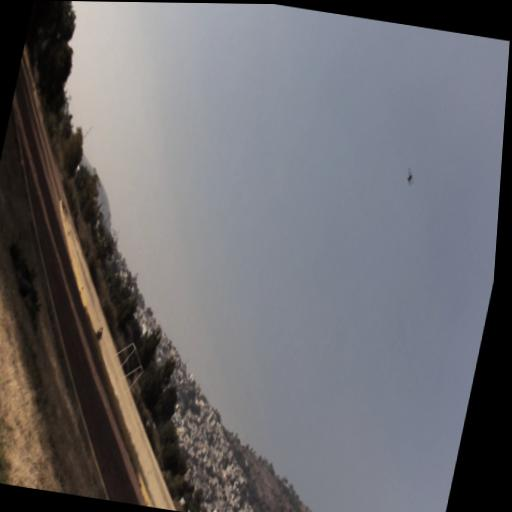drones: (402, 164, 418, 189)
